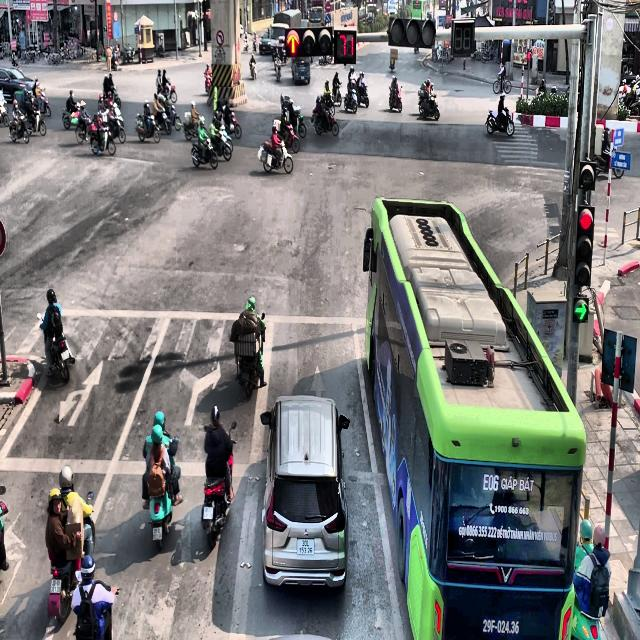BUS: (362, 196, 586, 639)
CAR: (260, 395, 350, 590), (0, 67, 36, 101)
MOTORBIKE: (48, 491, 96, 625), (201, 422, 237, 549), (146, 434, 179, 550), (558, 584, 608, 640), (234, 312, 266, 398), (37, 312, 74, 383), (258, 139, 293, 174), (90, 118, 116, 156), (216, 100, 241, 139), (191, 137, 218, 169), (312, 106, 338, 137), (486, 108, 514, 136), (209, 128, 233, 160), (0, 486, 9, 571), (135, 114, 160, 144), (103, 111, 126, 143), (278, 123, 300, 153), (418, 89, 439, 120), (62, 101, 85, 129), (10, 111, 30, 143), (75, 114, 97, 143), (26, 108, 46, 136), (163, 103, 181, 131), (154, 110, 172, 134), (493, 72, 511, 94), (389, 84, 402, 113), (356, 82, 369, 108), (344, 88, 357, 113), (163, 82, 177, 103), (331, 83, 342, 106), (274, 57, 281, 82), (249, 59, 257, 79), (204, 72, 211, 92)
TRAFFIC_LIGHT: (284, 25, 357, 63), (574, 204, 595, 288), (334, 29, 356, 63), (285, 30, 300, 57)
